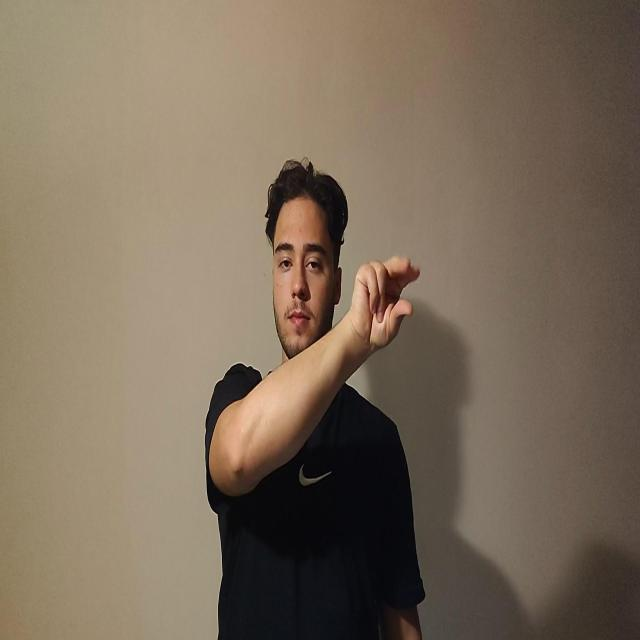no: (350, 254, 420, 356)
